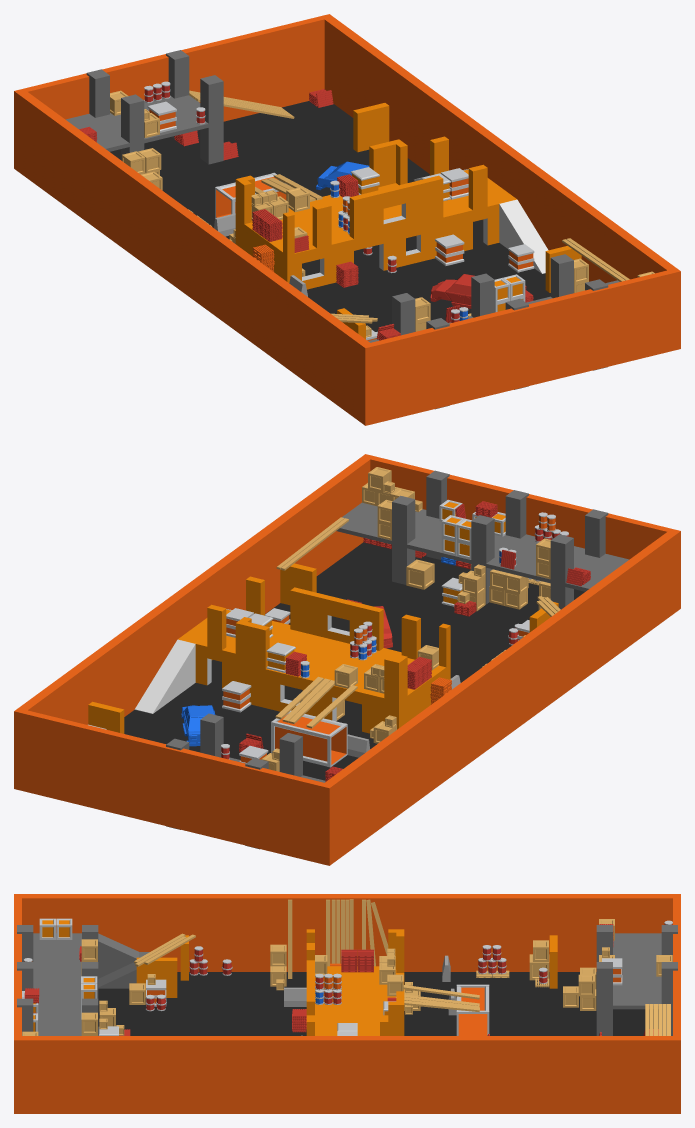
File: map.glb
3 renders of one model, top to bottom at view 1: azimuth 30°, elevation 25°; view 2: azimuth 150°, elevation 25°; view 3: azimuth 270°, elevation 25°, orthographic. The views are drawn at different scales.
Visible parts, largest first — view 1: floors, Plane, room, Cube.016, Cube.004, Cube.001, obj.004, Cube.006, Cube.005, BigBox.001, BigBox.004, Cube.035; view 2: floors, room, Plane, Cube.004, Cube.005, Cube.016, Cube.002, obj.002, obj.004, Cube.035, BigBox.002, Box.034; view 3: floors, Plane, Cube.004, Cube.016, room, up2, Cube.005, Cube.030, obj.024, obj.028, Cube.023, Cube.036 (+17 smaller).
Part boxes in pixels (box(x1,y1,x2,y2)): floors: box(14, 14, 680, 425); Plane: box(110, 101, 550, 331); room: box(235, 136, 516, 289); Cube.016: box(65, 50, 223, 164); Cube.004: box(368, 254, 619, 409); Cube.001: box(499, 199, 548, 273); obj.004: box(353, 103, 389, 152); Cube.006: box(430, 274, 474, 308); Cube.005: box(215, 172, 289, 218); BigBox.001: box(435, 234, 464, 265); BigBox.004: box(508, 244, 534, 272); Cube.035: box(316, 161, 369, 190); floors: box(14, 454, 680, 865); room: box(178, 576, 450, 733); Plane: box(124, 542, 584, 780); Cube.004: box(336, 470, 629, 609); Cube.005: box(271, 710, 347, 767); Cube.016: box(166, 713, 325, 849); Cube.002: box(134, 639, 195, 713); obj.002: box(280, 563, 316, 605); obj.004: box(88, 701, 124, 733); Cube.035: box(181, 705, 215, 746); BigBox.002: box(222, 681, 251, 712); Box.034: box(406, 559, 434, 589); floors: box(14, 894, 680, 1113); Plane: box(98, 972, 658, 1035); Cube.004: box(17, 925, 98, 1035); Cube.016: box(596, 925, 677, 1035); room: box(306, 929, 404, 1035); up2: box(98, 933, 149, 988); Cube.005: box(456, 984, 489, 1035); Cube.030: box(331, 899, 349, 963); obj.024: box(136, 957, 177, 997); obj.028: box(549, 935, 557, 988); Cube.023: box(362, 899, 375, 966); Cube.036: box(284, 987, 306, 1006).
Size of the model in its own units: 8.5 by 2.1 by 16.4.
